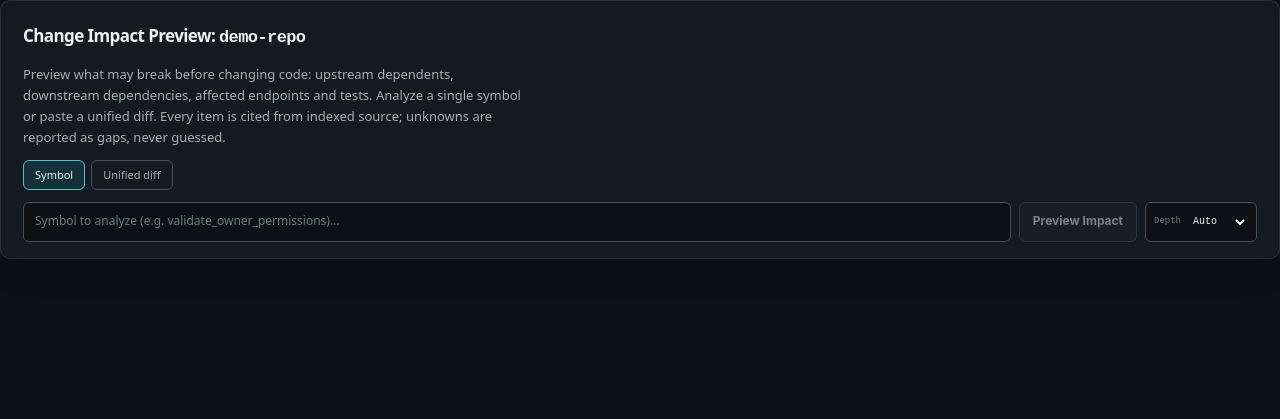
Test: ImpactPanel › reports an unresolved symbol honestly without fabricating impact
The image size is (1280, 419).
Type "ghost_symbol" into the field named "Impact target symbol".
click(517, 222); type("ghost_symbol")  # box left=23, top=202, right=1011, bottom=242
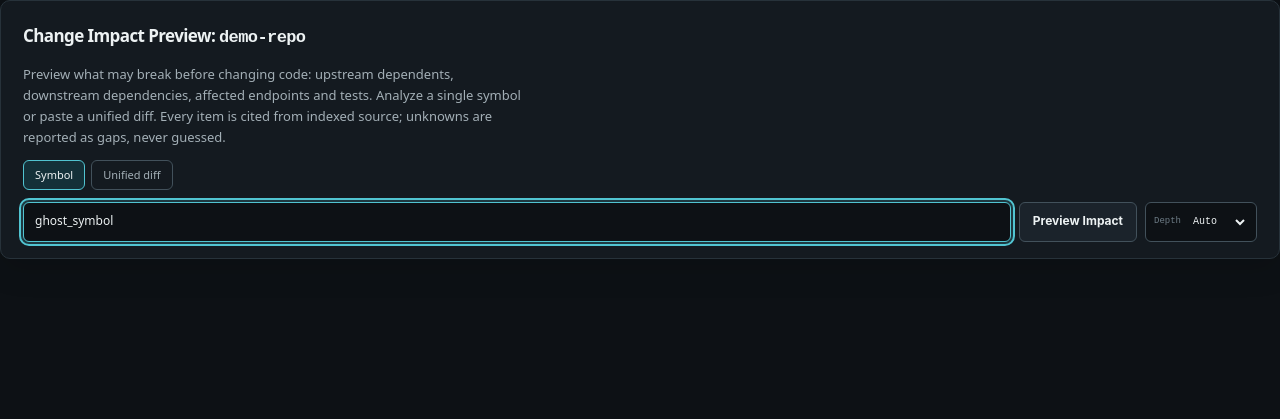
Click the button "Preview Impact".
click(1078, 222)  # box left=1019, top=202, right=1137, bottom=242
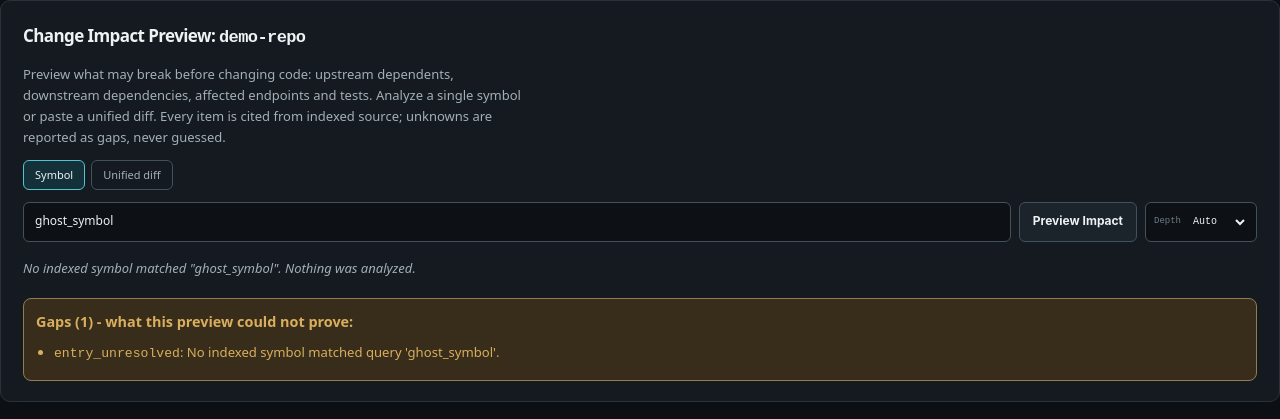
Now the text "No indexed symbol matched \"ghost_symbol\"" is shown, box left=23, top=258, right=416, bottom=276
Now the text "entry_unresolved" is shown, box left=54, top=346, right=180, bottom=361
